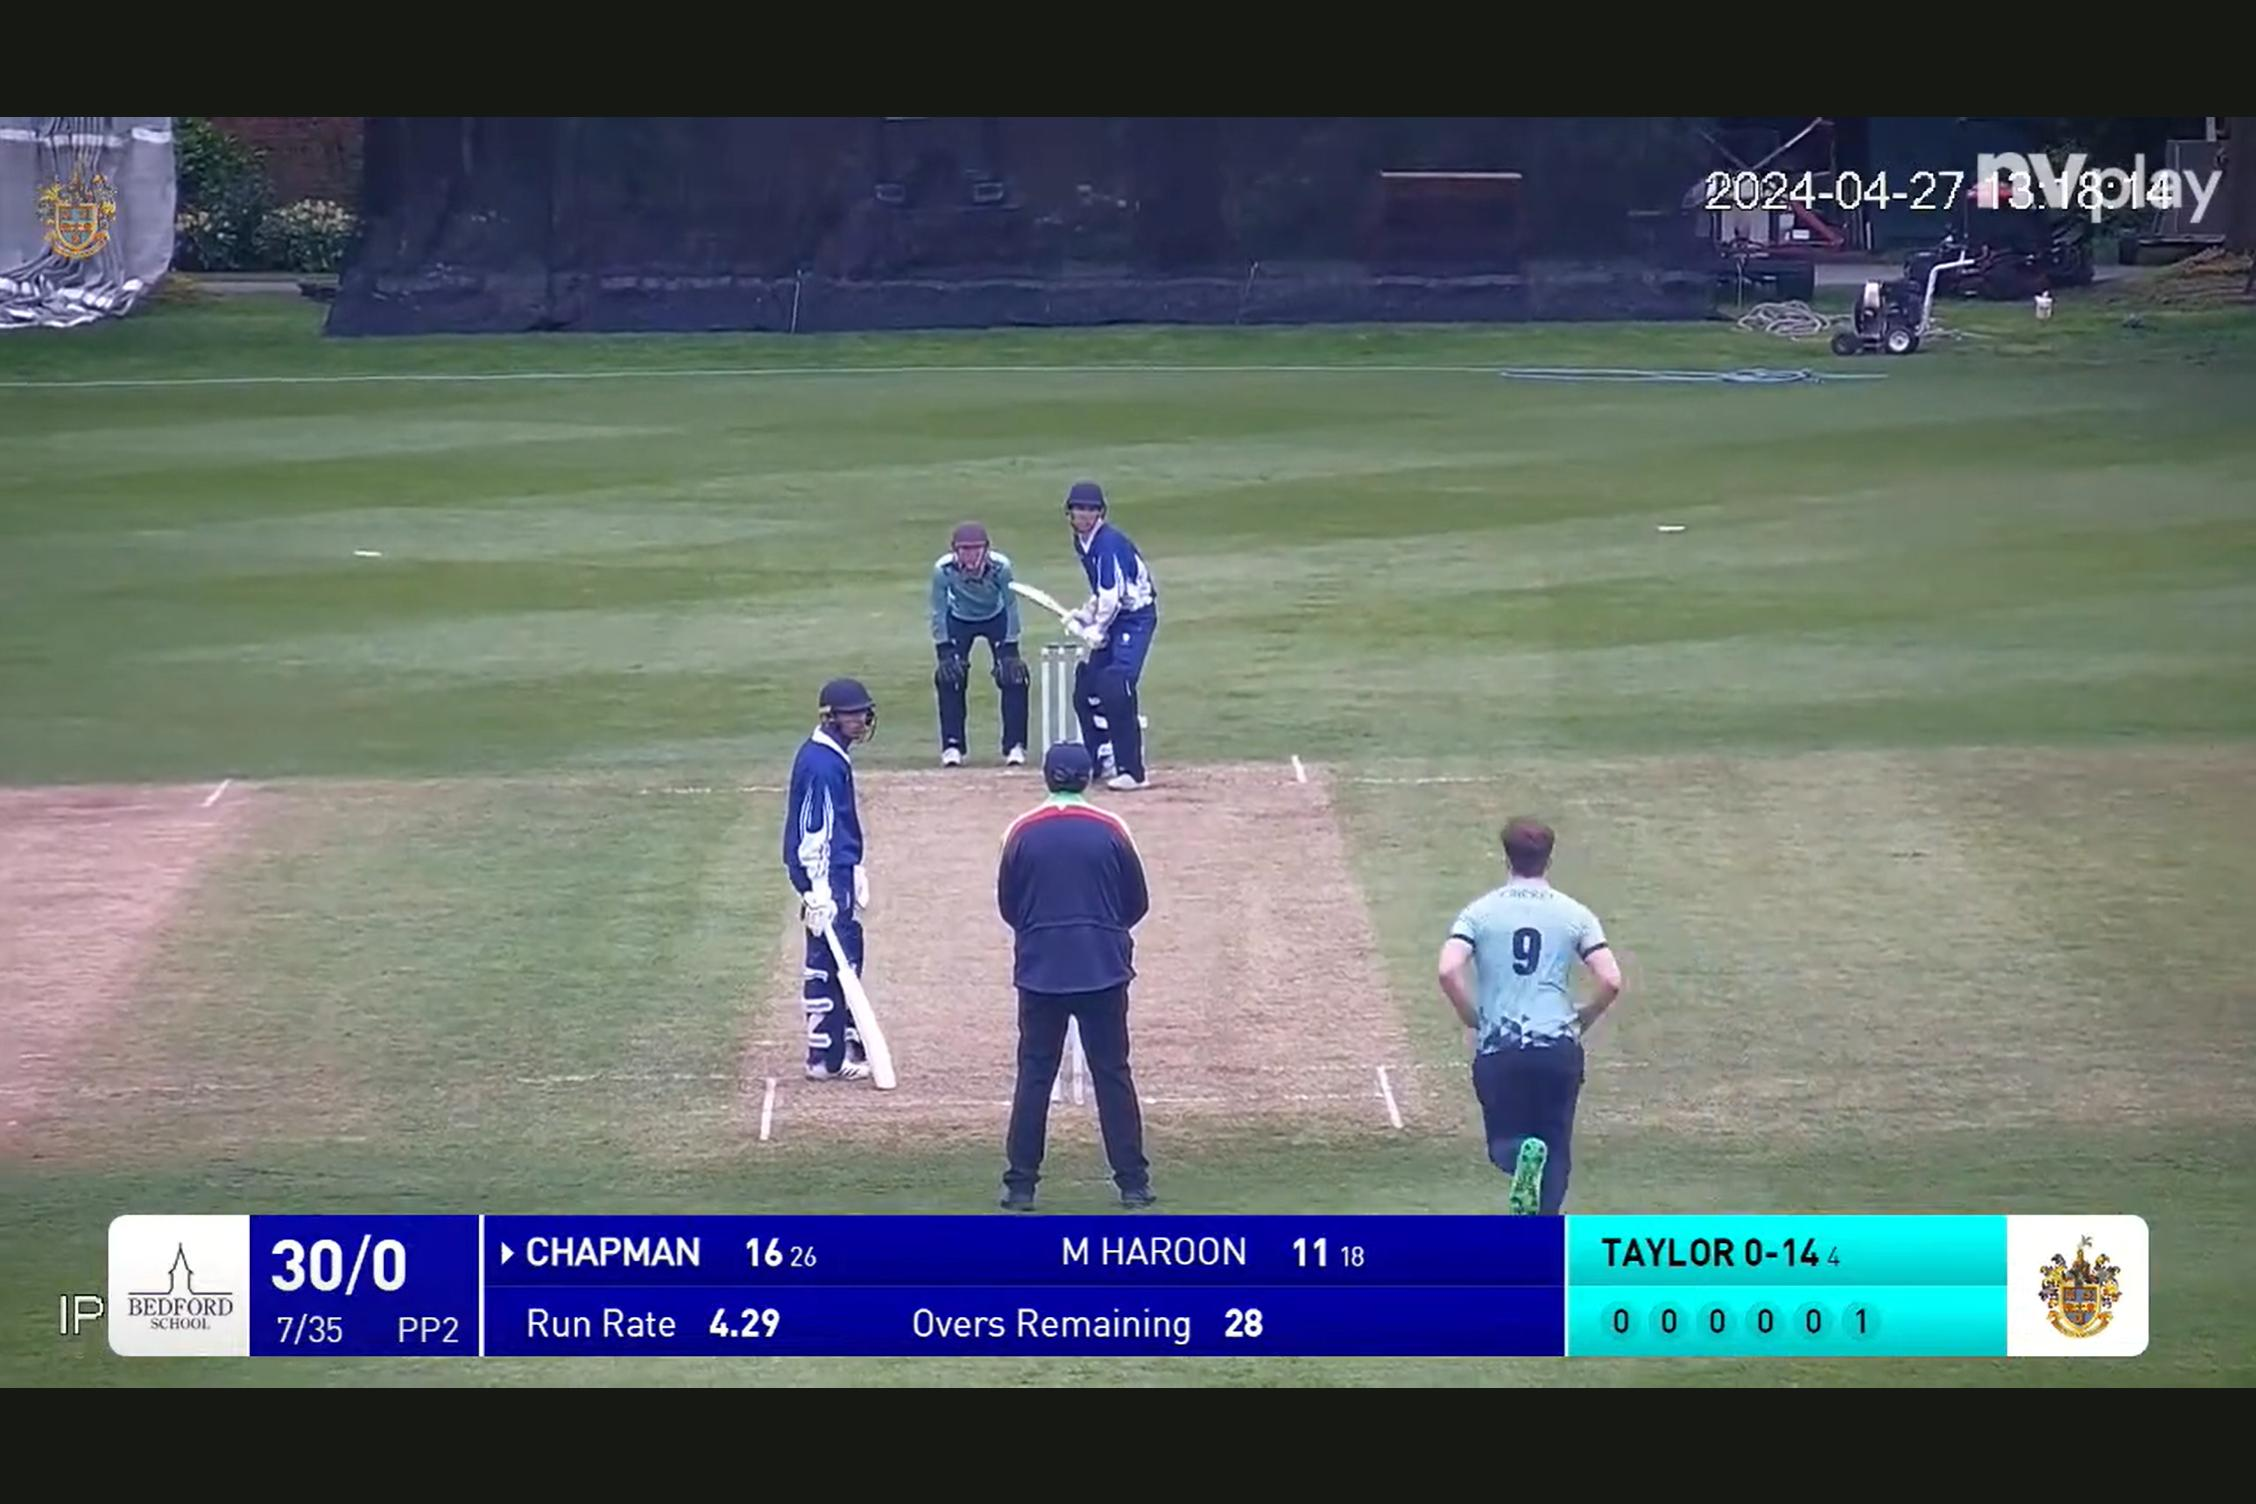batsman: (1004, 452, 1172, 775)
bowler running in: (1428, 821, 1628, 1193)
non striker: (740, 661, 925, 1103)
